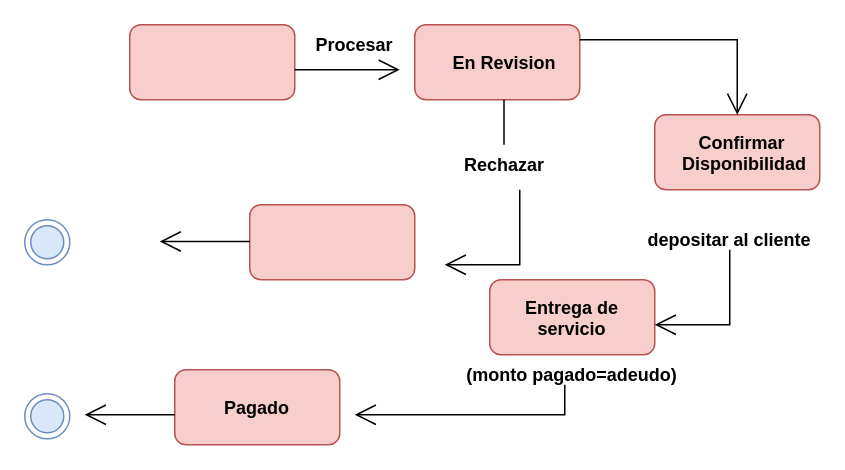
The diagram is 845 pixels wide and 470 high, and some of its shapes have lost their labels. Here are the shapes that lost their labels. From the top down, the centre of each, then its label:
At point (211, 61): "Generar solicitud".
At point (331, 241): "Cancelar servicio".
